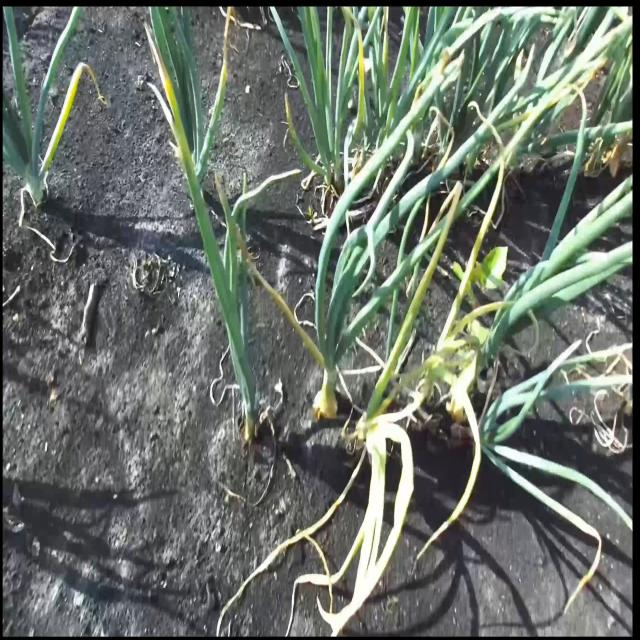onion: (314, 382, 340, 426)
